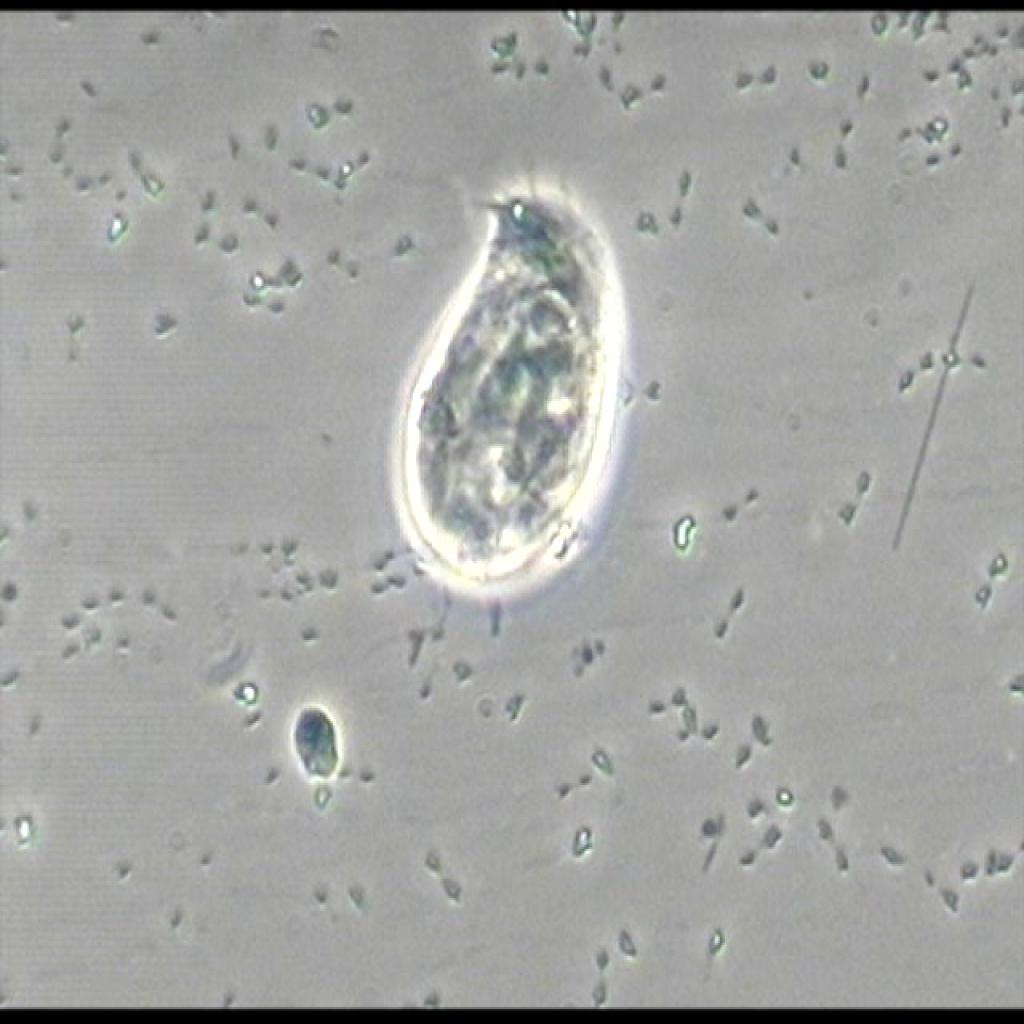Chilodonella: (364, 163, 654, 639)
